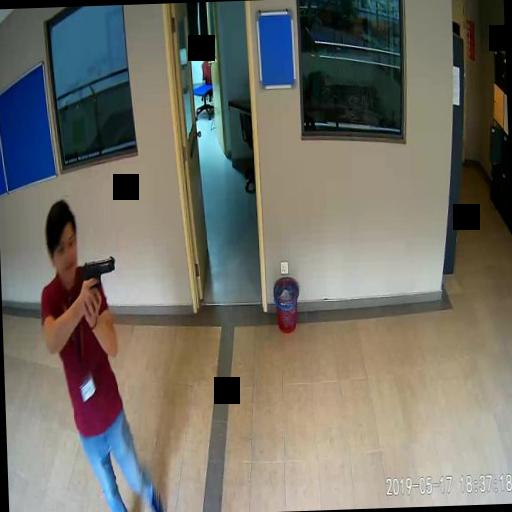Handgun: (80, 255, 115, 310)
